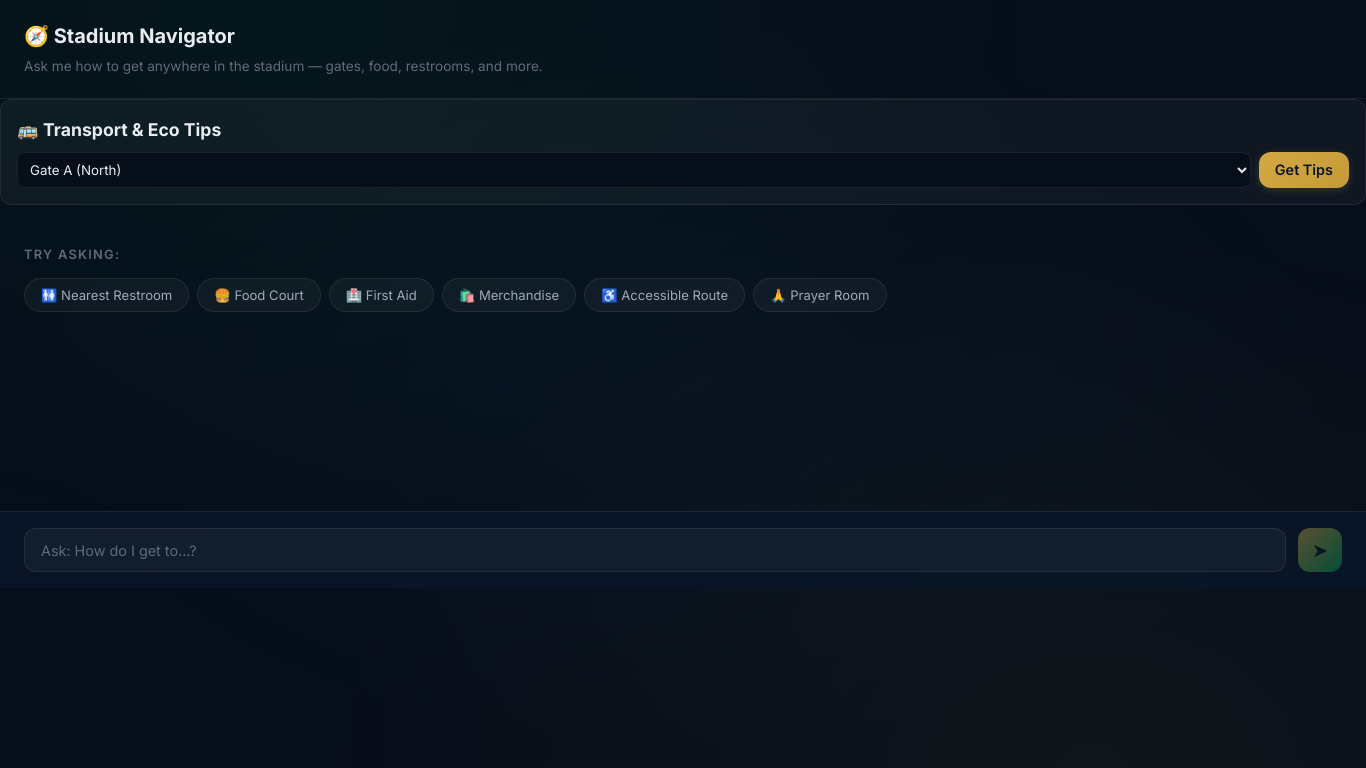
NavigationChat › handles quick action chip clicks
Click the button "🚻 Nearest Restroom" at [107, 294], box [24, 278, 189, 312]
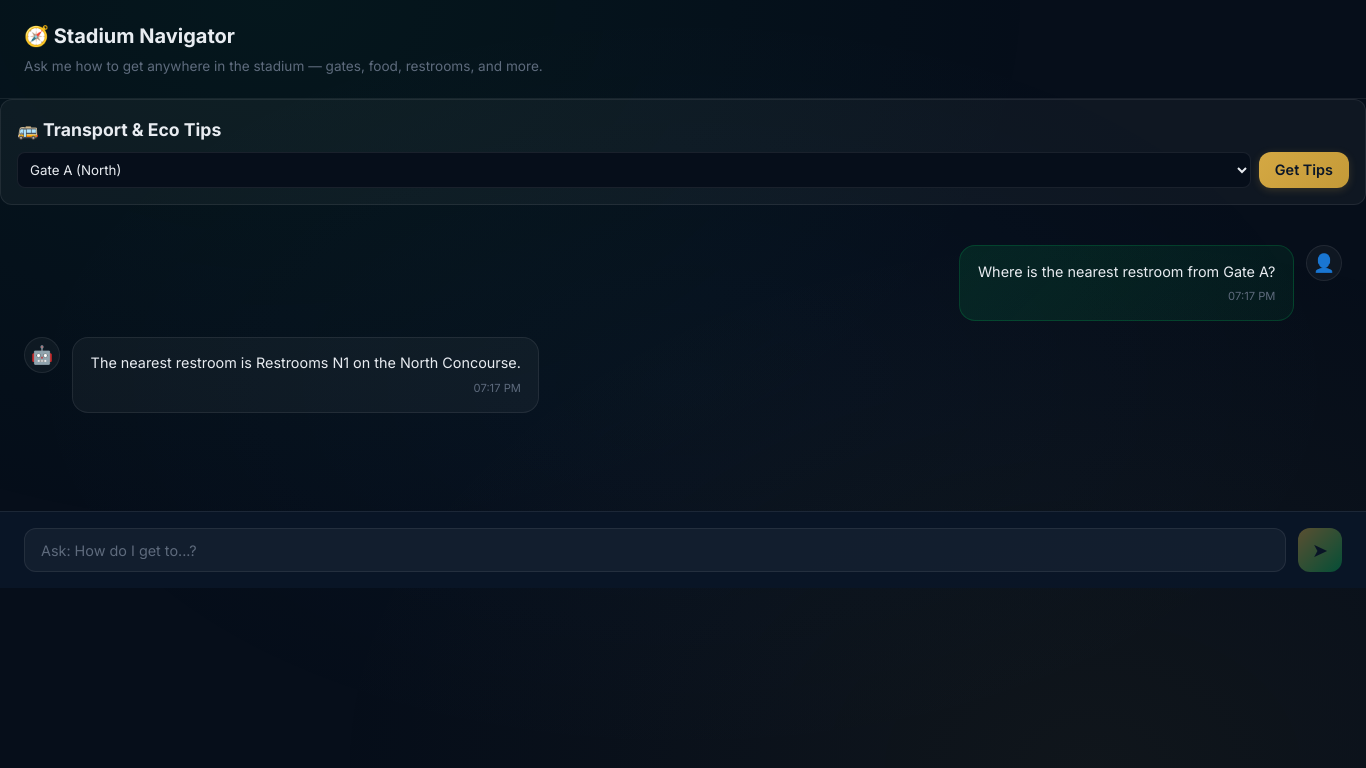
Expected: the text "Where is the nearest restroom from Gate A?" is shown, [978, 260, 1275, 283]
